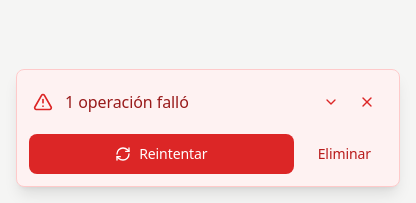
it: SyncStatusBanner › dispositivo compartido › B no ve las fallidas de A ni su motivo
Check: the message "1 operación falló Reintentar Eliminar" is shown, box top-left (16, 69), bottom-right (400, 187)
Click the button named "Expandir detalles" at (331, 102), box top-left (315, 86), bottom-right (347, 118)
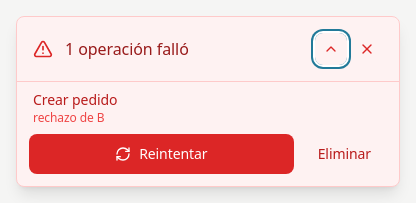
Check: the text "1 operación falló" is shown, box top-left (65, 38), bottom-right (189, 60)
Check: the text "rechazo de B" is shown, box top-left (33, 109), bottom-right (104, 126)
